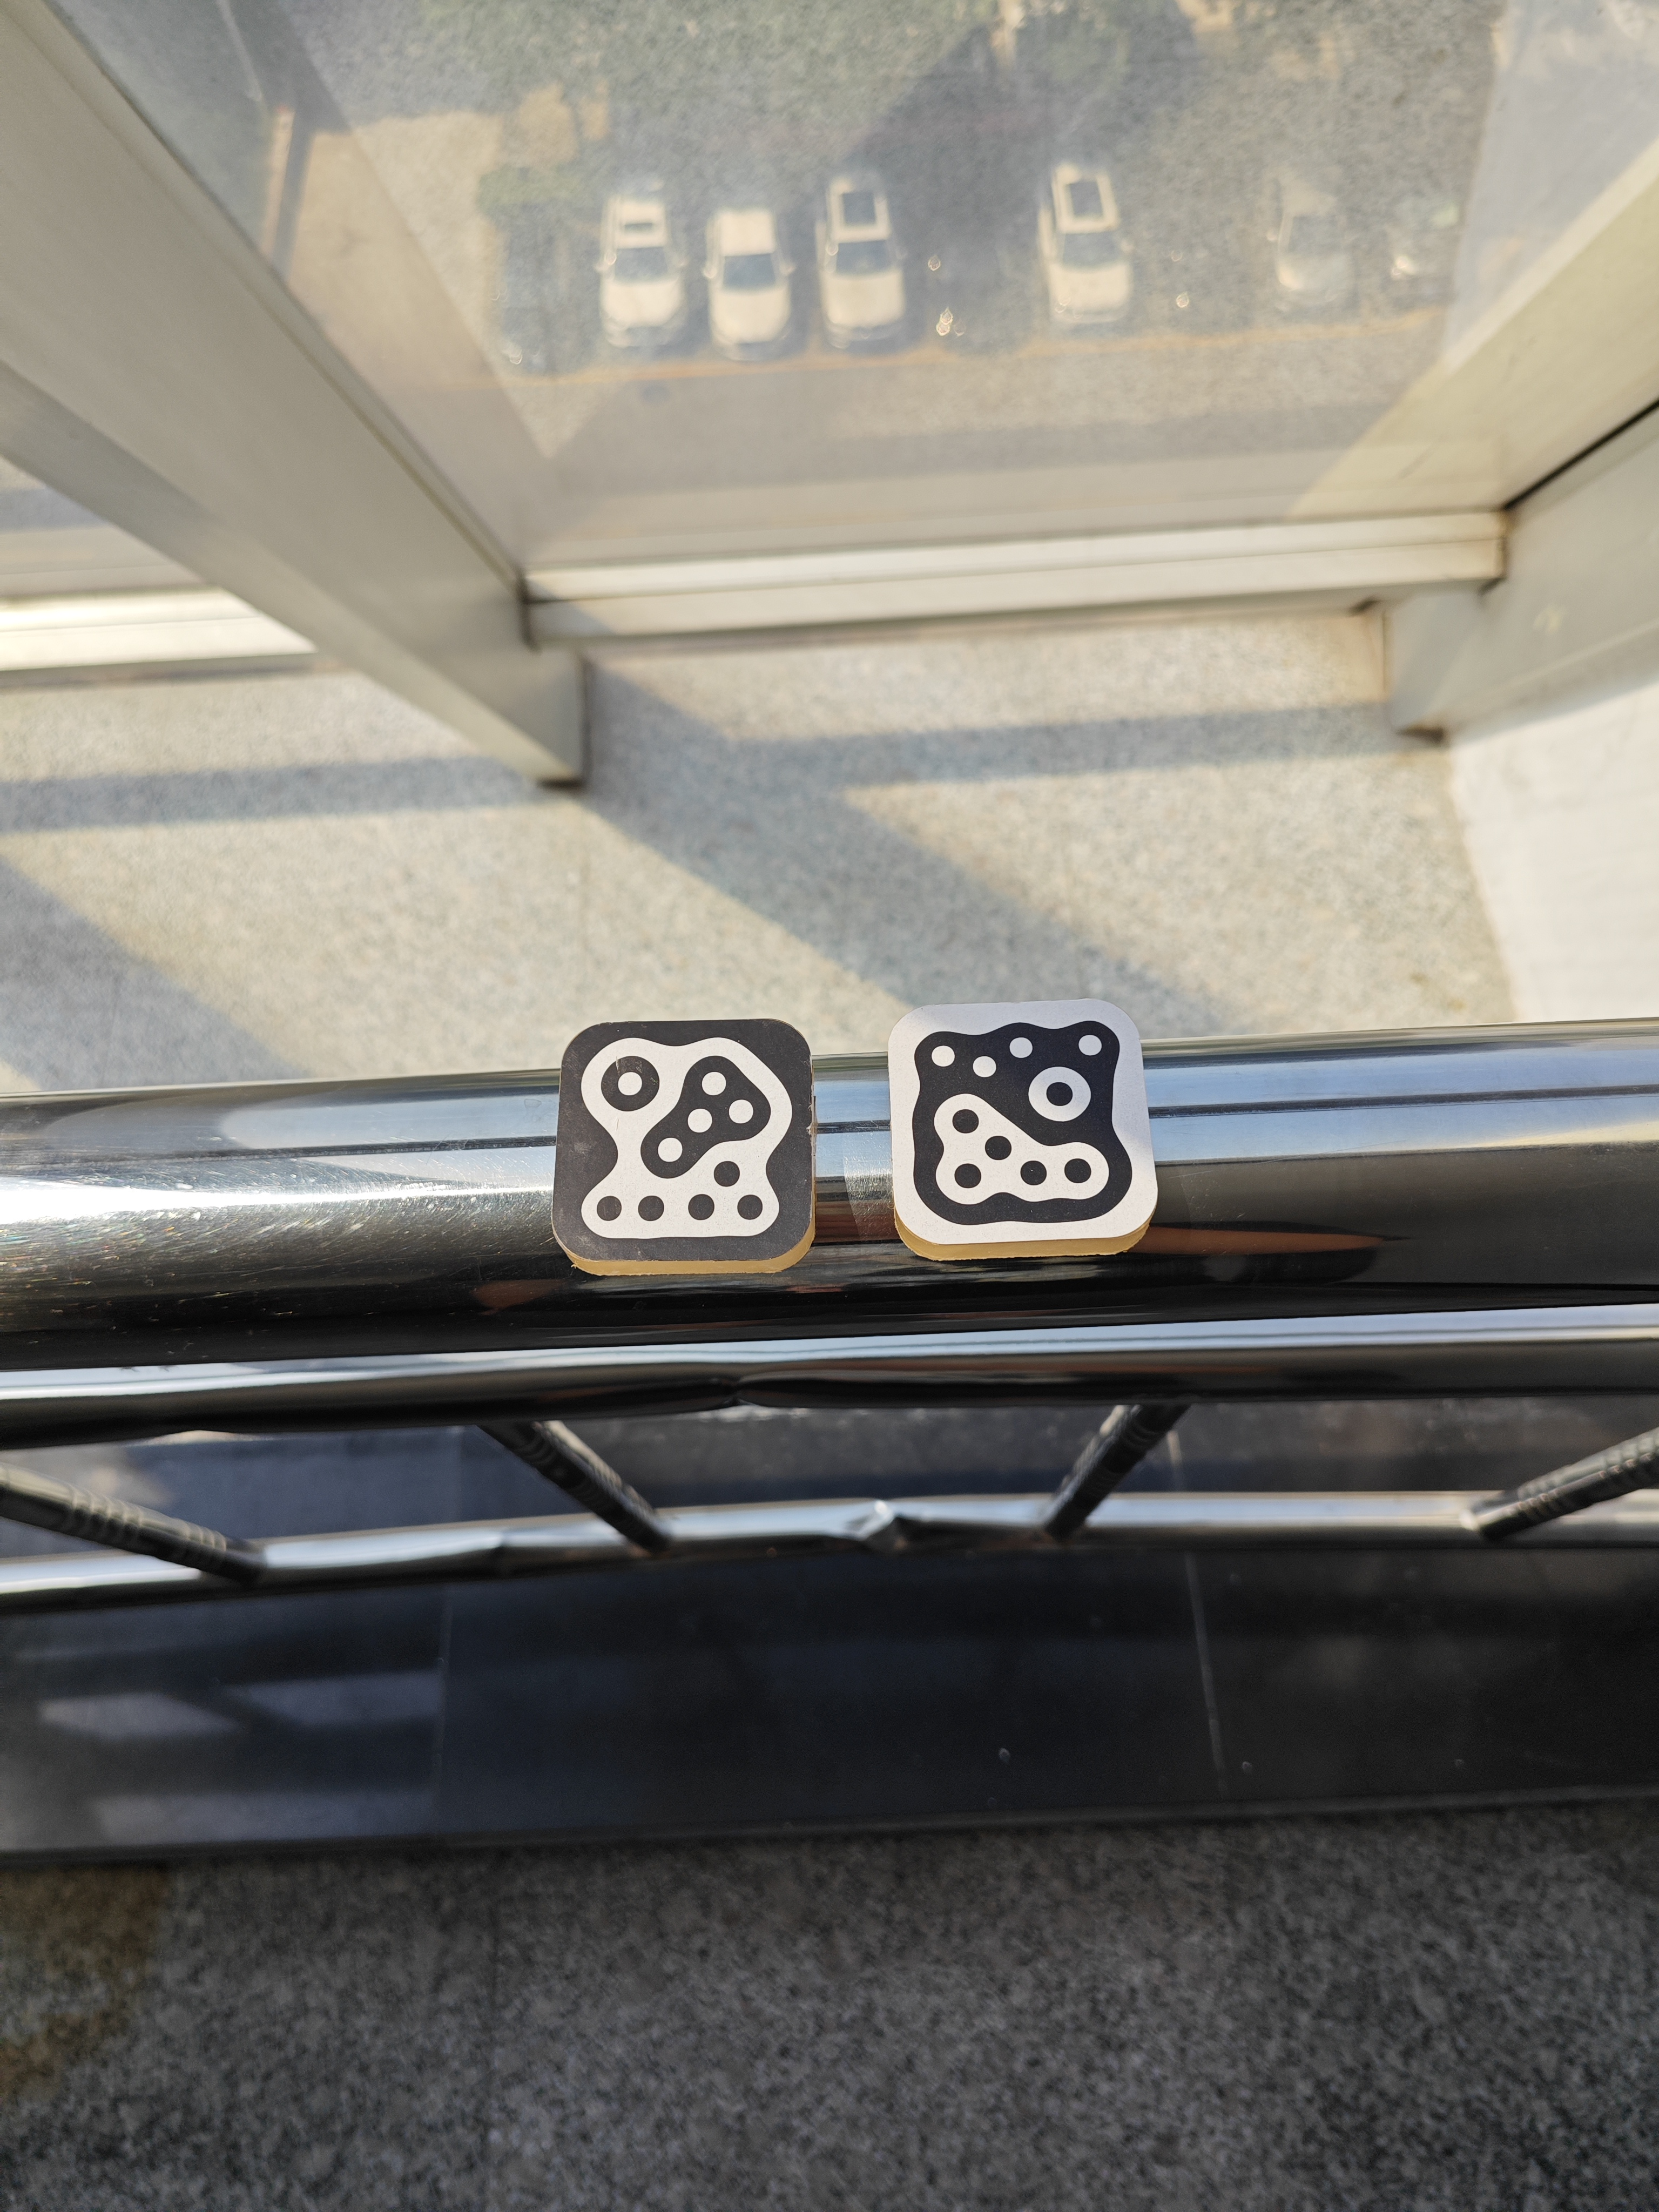mark1: (910, 1017, 1136, 1224)
mark2: (565, 1035, 791, 1245)
